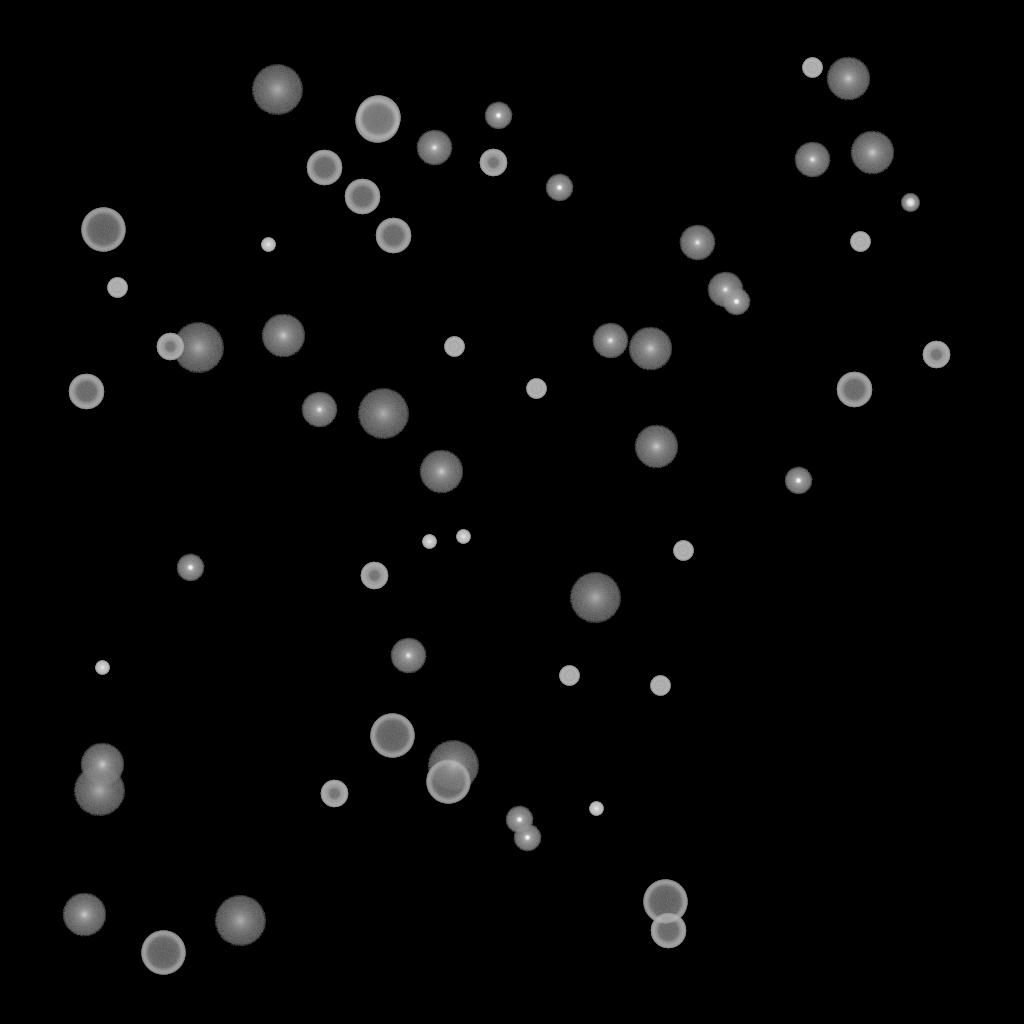depth:-10: (505, 806, 533, 834), (513, 824, 541, 852), (484, 102, 512, 130), (784, 467, 812, 495), (722, 288, 750, 316), (176, 554, 204, 582), (545, 174, 573, 202)
depth:-20: (901, 194, 919, 212)
depth:-30: (589, 802, 603, 816), (456, 530, 470, 544), (261, 238, 275, 252), (95, 661, 109, 675), (422, 535, 436, 549)
depth:-40: (107, 278, 127, 298), (802, 58, 822, 78), (559, 666, 579, 686), (673, 541, 693, 561), (526, 379, 546, 399), (850, 232, 870, 252), (650, 676, 670, 696), (444, 337, 464, 357)
depth:-50: (922, 341, 950, 369), (156, 333, 184, 361), (479, 149, 507, 177), (360, 562, 388, 590), (320, 780, 348, 808)
depth:-60: (306, 150, 342, 186), (68, 374, 104, 410), (650, 913, 686, 949), (344, 179, 380, 215), (836, 372, 872, 408), (375, 218, 411, 254)
depth:-70: (81, 208, 125, 252), (426, 760, 470, 804), (643, 880, 687, 924), (355, 99, 399, 143), (370, 714, 414, 758), (141, 931, 185, 975), (356, 96, 400, 140)
depth:0: (679, 225, 715, 261), (707, 272, 743, 308), (592, 323, 628, 359), (794, 142, 830, 178), (390, 638, 426, 674), (416, 130, 452, 166), (301, 392, 337, 428)
depth:10: (261, 314, 305, 358), (80, 743, 124, 787), (634, 425, 678, 469), (826, 57, 870, 101), (628, 327, 672, 371), (419, 450, 463, 494), (850, 131, 894, 175), (62, 893, 106, 937)
depth:20: (427, 741, 479, 791), (357, 389, 409, 439), (172, 323, 224, 373), (73, 766, 125, 816), (569, 573, 621, 623), (251, 65, 303, 115), (214, 896, 266, 946)
